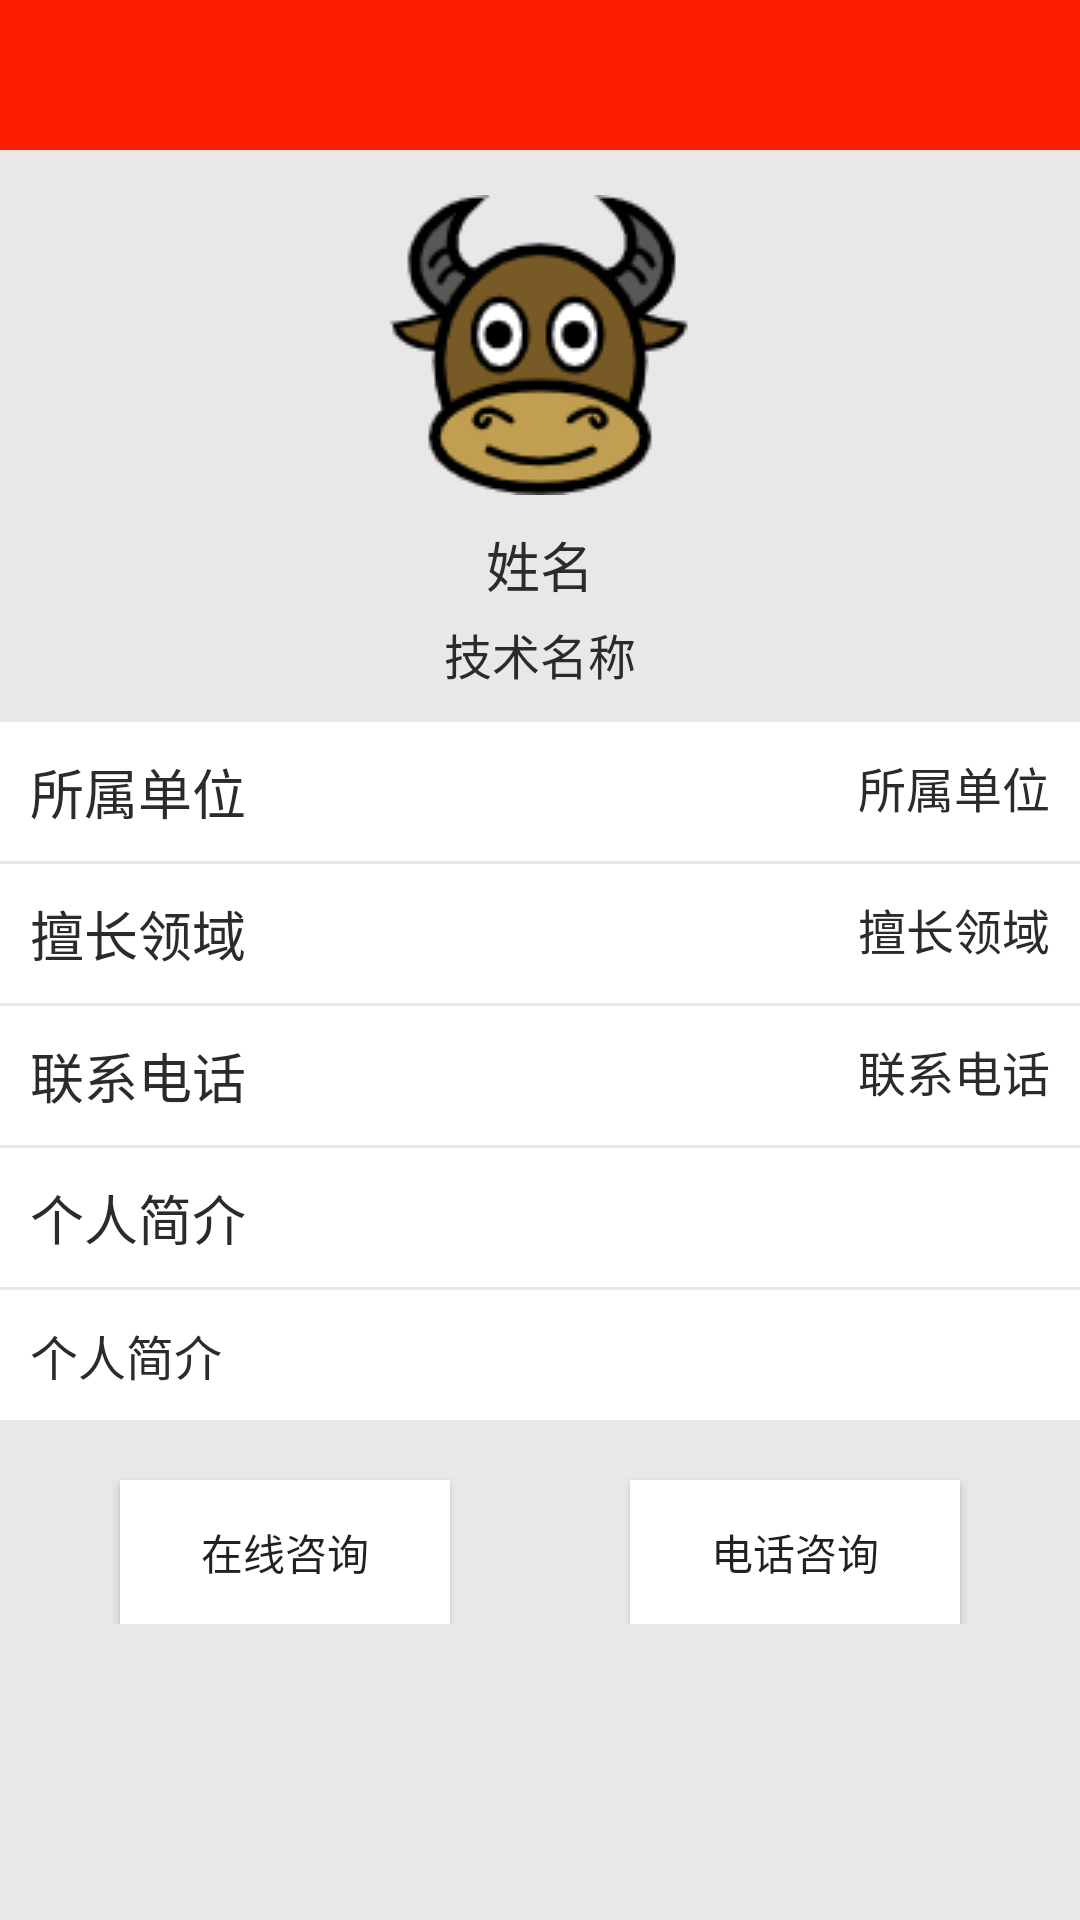

Named icons in this screenshot (1080w x 1920h) and their centers, (x,y):
specialist head portrait: (539,345)
